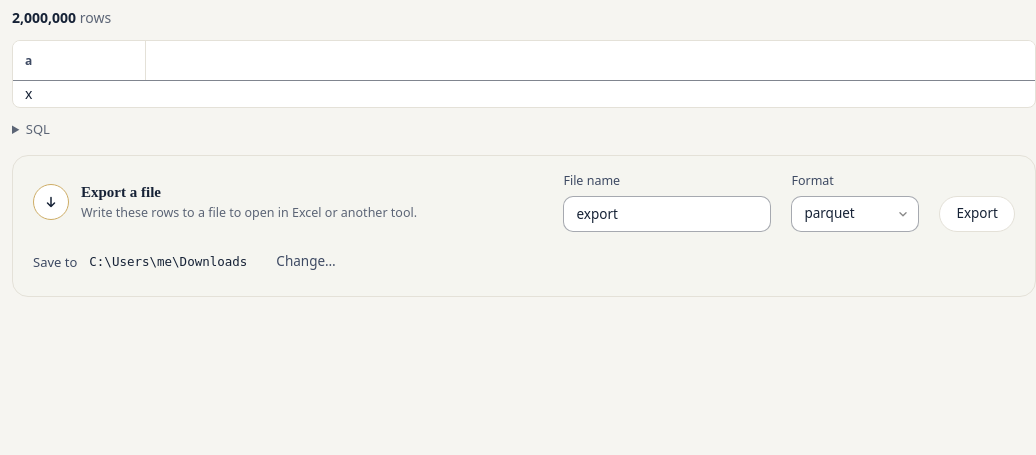
Test: Export a file › says why xlsx cannot take it, and offers the formats that can
Select "xlsx" in the dropdown labelled "Format" at coordinates (855, 214), box [791,196,919,232]
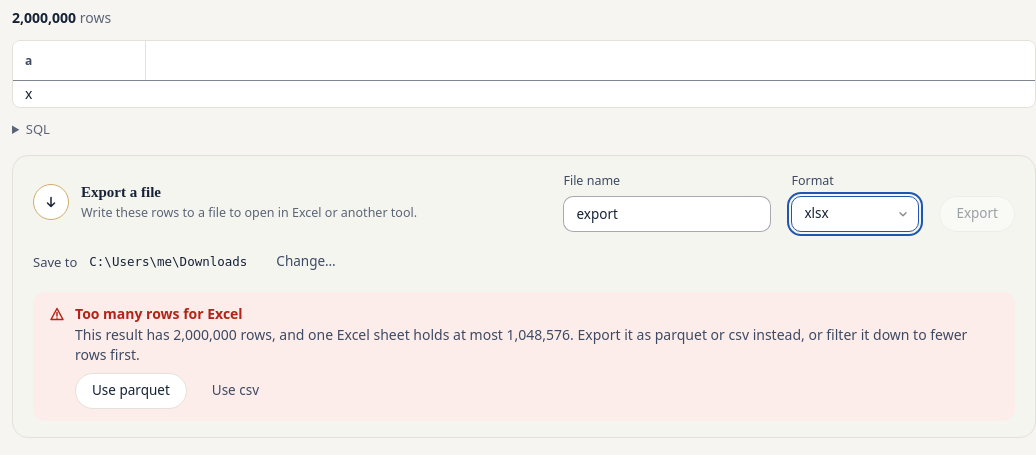
Result: the text "Too many rows for Excel" is shown at [75,304,243,323]
Result: the text "2,000,000 rows, and one Excel sheet holds at most 1,048,576" is shown at [75,325,999,365]
Result: the button "Export" is disabled at [939,196,1015,232]
Click the button "Use parquet" at coordinates (131, 391), box [75,373,187,409]
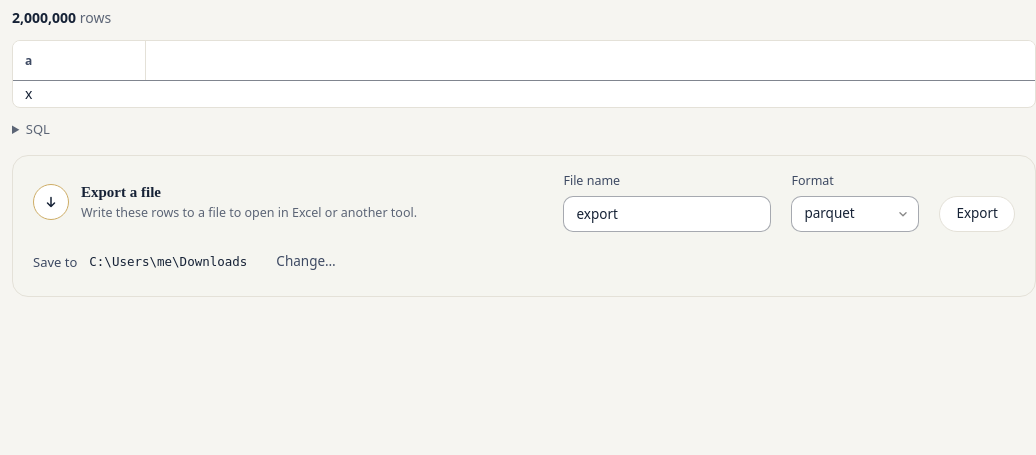
Result: the button "Export" is enabled at [939,196,1015,232]
